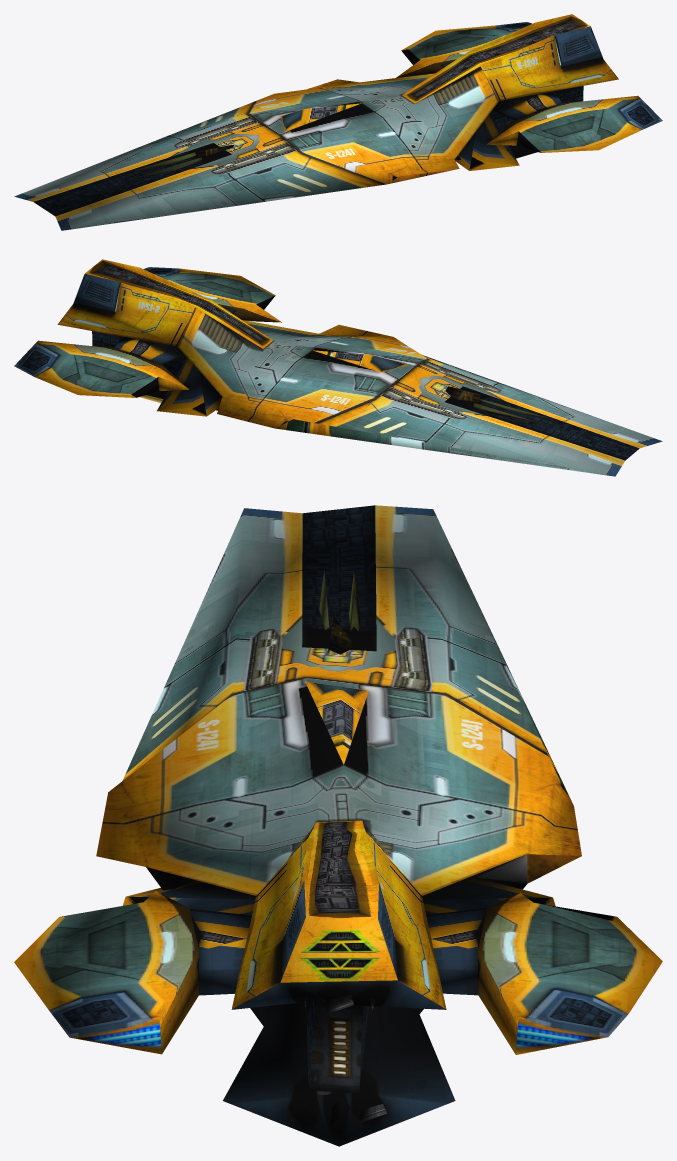
Rendered from spaceship.fbx.
3 renders of one model, top to bottom at view 1: azimuth 30°, elevation 25°; view 2: azimuth 150°, elevation 25°; view 3: azimuth 270°, elevation 25°, orthographic. The views are drawn at different scales.
Parts seen in each view (by area): view 1: spaceship_01_object; view 2: spaceship_01_object; view 3: spaceship_01_object.
Boxes of the visible parts, x1,y1,x2,y2 form: spaceship_01_object: (14,14,662,230); spaceship_01_object: (14,259,662,476); spaceship_01_object: (14,505,662,1146).
Size of the model in its own units: 1188 by 601 by 229.
Materials: 1 (1 with a texture image).
